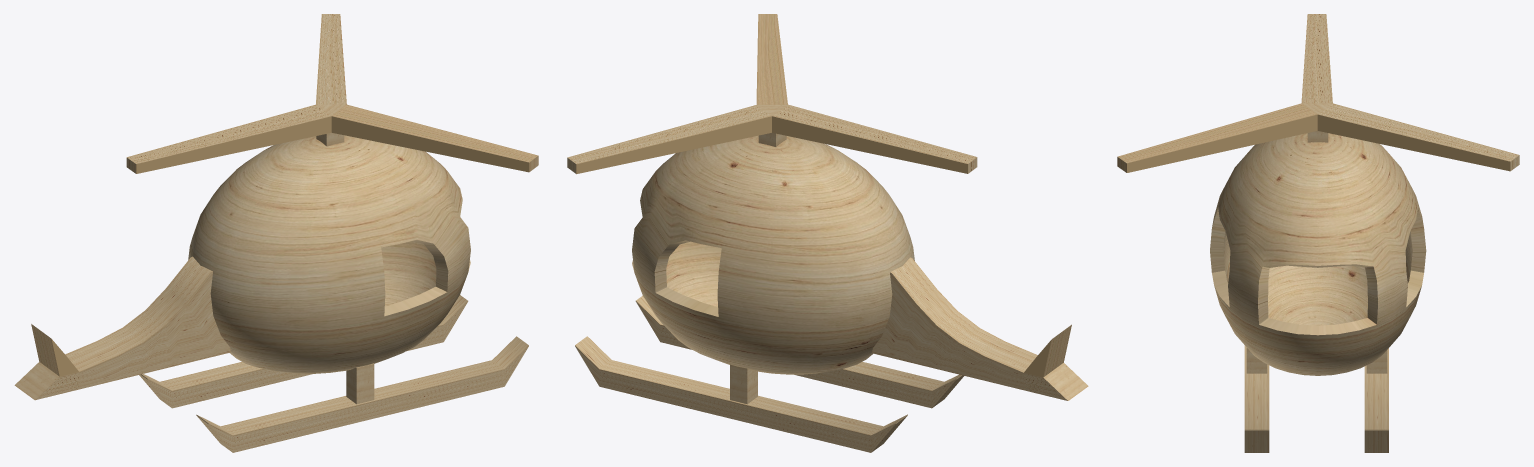
File: Helicopter_Low_Poly.glb
3 views of the same model, side by side, from view 1: azimuth 30°, elevation 25°; view 2: azimuth 150°, elevation 25°; view 3: azimuth 270°, elevation 25° (orthographic).
Parts seen in each view (by area): view 1: unnamed; view 2: unnamed; view 3: unnamed.
Part boxes in pixels (box(x1,y1,x2,y2)): unnamed: box(14, 14, 538, 452); unnamed: box(567, 14, 1088, 452); unnamed: box(1117, 14, 1519, 452).
Bounding box in the file's own units: 39.18 × 22.8 × 29.65.
Materials: 1 (1 with a texture image).
